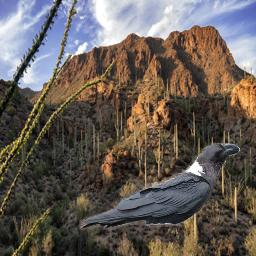Crow: (79, 143, 240, 230)
